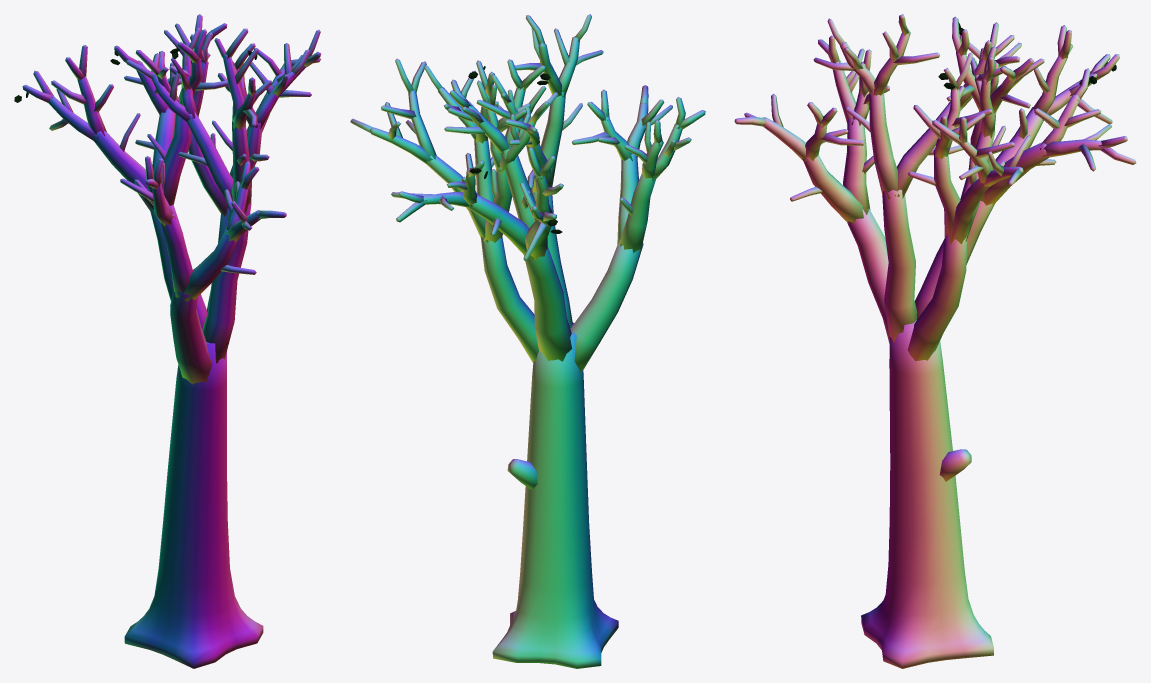
Rendered from SM_Foliage_March_DeadOak_C.fbx.
3 renders of one model, left to right at view 1: azimuth 30°, elevation 25°; view 2: azimuth 150°, elevation 25°; view 3: azimuth 270°, elevation 25°, orthographic. The views are drawn at different scales.
Parts seen in each view (by area): view 1: SM_Foliage_March_DeadOak_C; view 2: SM_Foliage_March_DeadOak_C; view 3: SM_Foliage_March_DeadOak_C.
Boxes of the visible parts, x1,y1,x2,y2 form: SM_Foliage_March_DeadOak_C: (14,14,321,668); SM_Foliage_March_DeadOak_C: (350,14,705,668); SM_Foliage_March_DeadOak_C: (734,14,1136,668).
Size of the model in its own units: 2.08 by 4.47 by 2.52.
